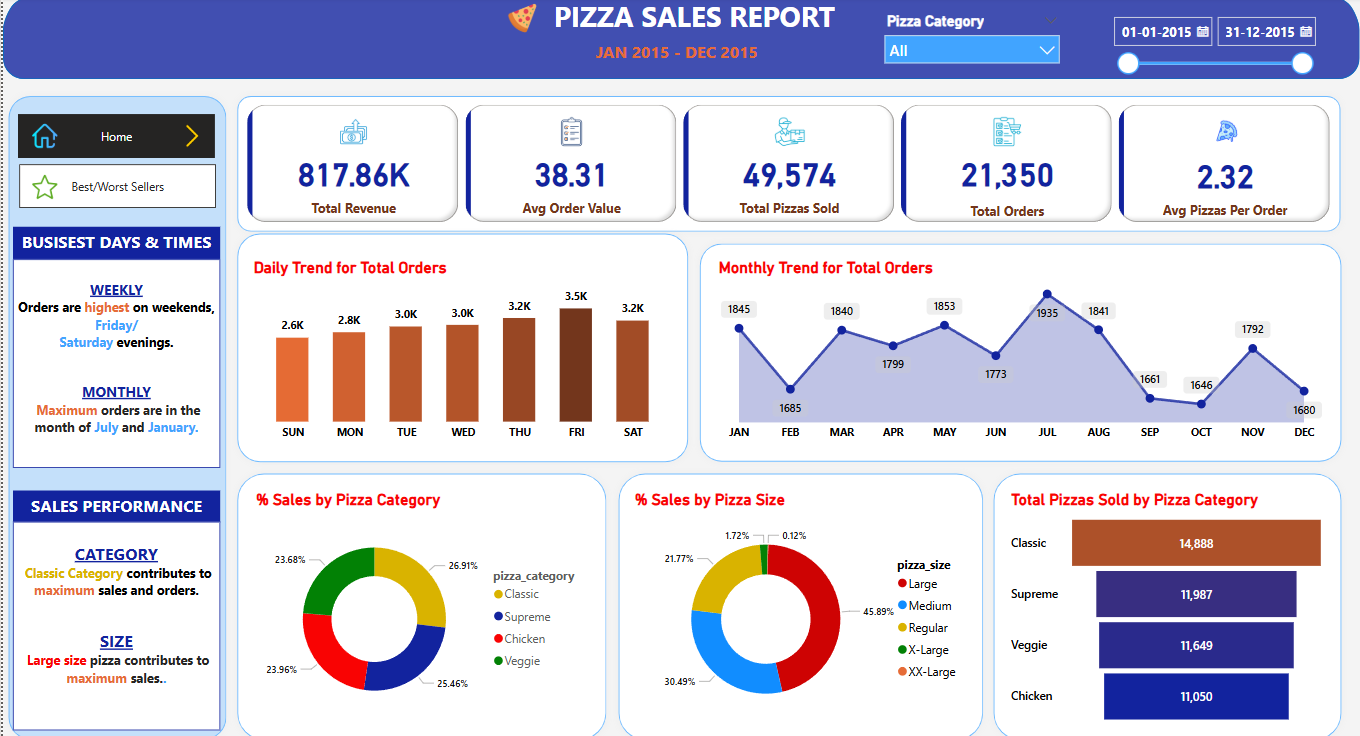

This screenshot's page, from the dashboard's own definition file:
{"tool":"powerbi","page":{"name":"Home","canvas":[1550,860],"ordinal":0},"visuals":[{"type":"shape","box":[261.8,111.8,1273.5,167.6],"z":0},{"type":"cardVisual","fields":{"Data":["pizza_sales.Total Revenue","pizza_sales.Avg Order Value","pizza_sales.Total Pizzas Sold","pizza_sales.Total Orders","pizza_sales.Avg Pizzas Per Order"]},"box":[274.3,122.9,1248.6,144.3],"z":1000},{"type":"shape","box":[0,0,1550,98.6],"z":2000},{"type":"textbox","box":[222.4,0,1134.5,194.8],"z":3000},{"type":"textbox","box":[522.4,50,494.8,36.2],"z":4000},{"type":"image","box":[567.2,6.9,53.4,43.1],"z":5000},{"type":"shape","box":[262,268,528,274],"z":6000},{"type":"columnChart","title":"Daily Trend for Total Orders","fields":{"Category":["pizza_sales.Order Day"],"Y":["pizza_sales.Total Orders"]},"box":[281,303.4,489.7,217.2],"z":7000},{"type":"shape","box":[790,280,746,262],"z":8000},{"type":"shape","box":[262.1,543.1,434.5,317.2],"z":9000},{"type":"shape","box":[0,111.8,261.8,748.5],"z":10000},{"type":"areaChart","title":"Monthly Trend for Total Orders ","fields":{"Category":["pizza_sales.Order Month"],"Y":["pizza_sales.Total Orders"]},"box":[812.9,302.9,702.9,217.1],"z":11000},{"type":"shape","box":[696.6,543.1,429.3,317.2],"z":12000},{"type":"shape","box":[1125.9,543.1,410.3,317.2],"z":13000},{"type":"donutChart","title":"% Sales by Pizza Category","fields":{"Category":["pizza_sales.pizza_category"],"Y":["pizza_sales.Total Revenue"]},"box":[283.8,569.1,389.7,273.5],"z":14000},{"type":"donutChart","title":"% Sales by Pizza Size","fields":{"Y":["pizza_sales.Total Revenue"],"Category":["pizza_sales.pizza_size"]},"box":[717.6,569.1,389.7,273.5],"z":15000},{"type":"funnel","title":"Total Pizzas Sold by Pizza Category","fields":{"Category":["pizza_sales.pizza_category"],"Y":["pizza_sales.Total Pizzas Sold"]},"box":[1147.1,569.1,369.1,273.5],"z":16000},{"type":"textbox","box":[11.8,267.6,236.8,36.8],"z":17000},{"type":"textbox","box":[11.8,304.4,236.8,238.2],"z":18000},{"type":"textbox","box":[11.8,569.1,236.8,36.8],"z":19000},{"type":"textbox","box":[11.8,604.4,236.8,238.2],"z":20000},{"type":"slicer","fields":{"Values":["pizza_sales.pizza_category"]},"box":[997.1,17.6,220.6,94.1],"z":21000},{"type":"slicer","fields":{"Values":["pizza_sales.order_date"]},"box":[1257.1,17.1,248.6,80],"z":22000},{"type":"pageNavigator","box":[18.6,195.7,225.7,50],"z":23000},{"type":"pageNavigator","box":[17.1,138.6,225.7,50],"z":24000},{"type":"image","box":[171.4,145.7,90,35.7],"z":25000},{"type":"image","box":[28.6,132.9,38.6,61.4],"z":26000},{"type":"image","box":[28.6,200,38.6,42.9],"z":27000}]}

Visuals, with their boxes in screenshot pixels (x1, y1, x2, y2), scaled from the page's 1550x860 canvas onto the 1360x736 screenshot:
shape: <bbox>230, 96, 1347, 239</bbox>
cardVisual - pizza_sales.Total Revenue x pizza_sales.Avg Order Value: <bbox>241, 105, 1336, 229</bbox>
shape: <bbox>0, 0, 1359, 84</bbox>
textbox: <bbox>195, 0, 1191, 167</bbox>
textbox: <bbox>458, 43, 893, 74</bbox>
image: <bbox>498, 6, 545, 43</bbox>
shape: <bbox>230, 229, 693, 464</bbox>
"Daily Trend for Total Orders" columnChart: <bbox>247, 260, 676, 446</bbox>
shape: <bbox>693, 240, 1348, 464</bbox>
shape: <bbox>230, 465, 611, 735</bbox>
shape: <bbox>0, 96, 230, 735</bbox>
"Monthly Trend for Total Orders " areaChart: <bbox>713, 259, 1330, 445</bbox>
shape: <bbox>611, 465, 988, 735</bbox>
shape: <bbox>988, 465, 1348, 735</bbox>
"% Sales by Pizza Category" donutChart: <bbox>249, 487, 591, 721</bbox>
"% Sales by Pizza Size" donutChart: <bbox>630, 487, 972, 721</bbox>
"Total Pizzas Sold by Pizza Category" funnel: <bbox>1006, 487, 1330, 721</bbox>
textbox: <bbox>10, 229, 218, 261</bbox>
textbox: <bbox>10, 261, 218, 464</bbox>
textbox: <bbox>10, 487, 218, 519</bbox>
textbox: <bbox>10, 517, 218, 721</bbox>
slicer - pizza_sales.pizza_category: <bbox>875, 15, 1068, 96</bbox>
slicer - pizza_sales.order_date: <bbox>1103, 15, 1321, 83</bbox>
pageNavigator: <bbox>16, 167, 214, 210</bbox>
pageNavigator: <bbox>15, 119, 213, 161</bbox>
image: <bbox>150, 125, 229, 155</bbox>
image: <bbox>25, 114, 59, 166</bbox>
image: <bbox>25, 171, 59, 208</bbox>
